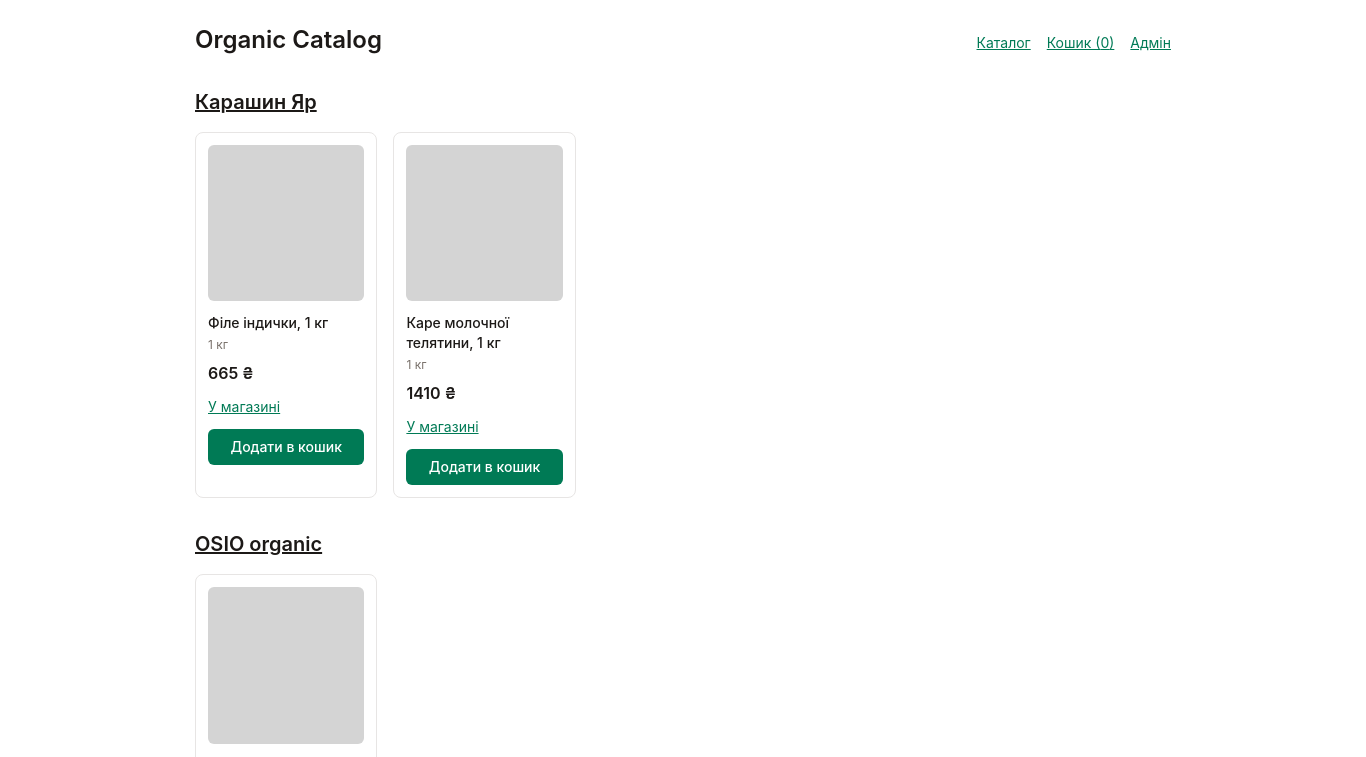
Test: Add from the catalog card
Click the button "Додати в кошик" below "Філе індички, 1 кг" at (286, 447), box x1=208 y1=429 x2=364 y2=465
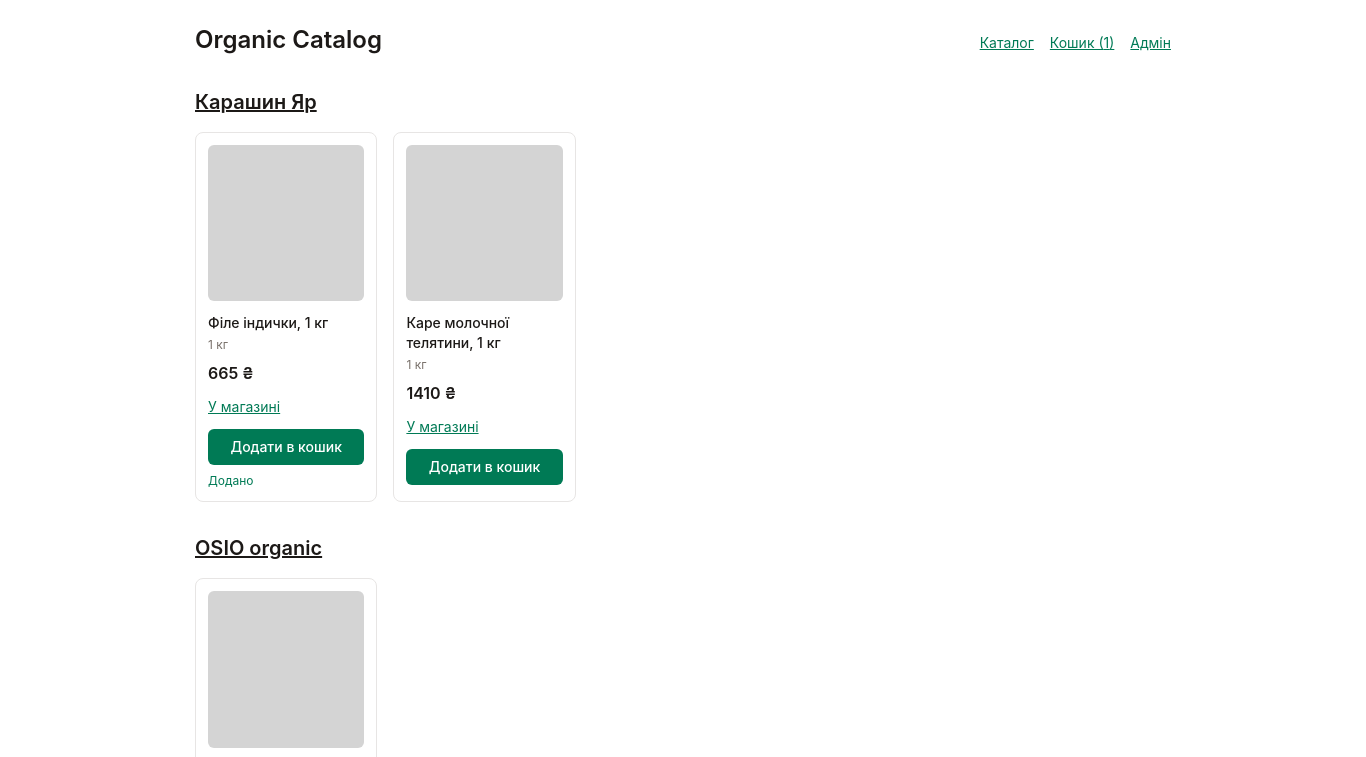
Now the message reads "Додано", box x1=208 y1=473 x2=253 y2=488
